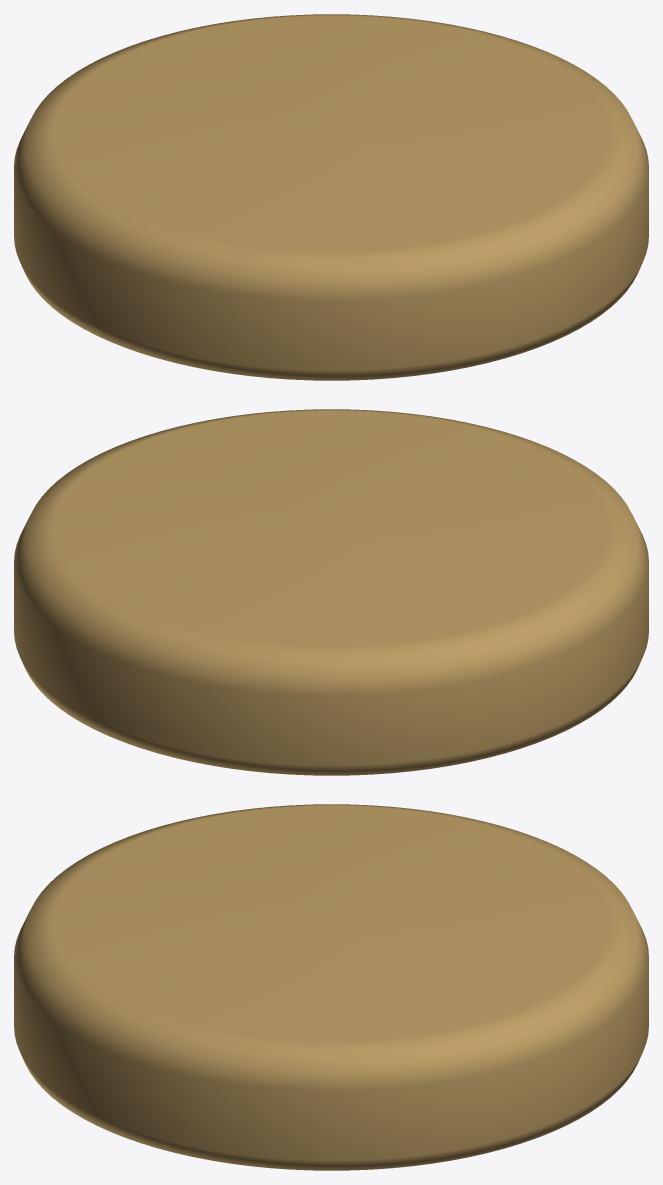
Rendered from black-jar-lid.glb.
3 views of the same model, one above another, from view 1: azimuth 30°, elevation 25°; view 2: azimuth 150°, elevation 25°; view 3: azimuth 270°, elevation 25° (orthographic).
Size of the model in its own units: 2.24 by 0.49 by 2.24.
1 material, 1 textured.
